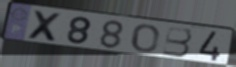4: (197, 30, 222, 63)
8: (98, 19, 127, 50), (66, 16, 92, 45)
B: (161, 25, 194, 58)
O: (131, 23, 161, 53)
X: (26, 9, 65, 44)
